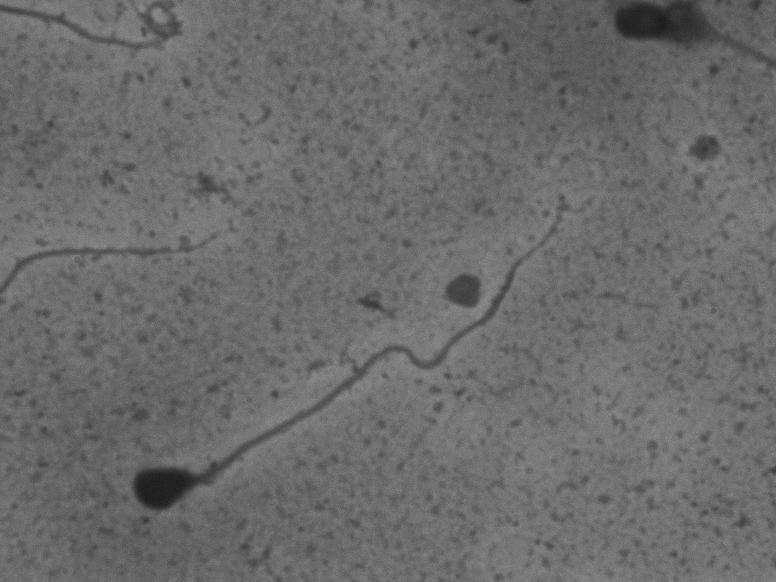Abnormal: (125, 180, 586, 528)
